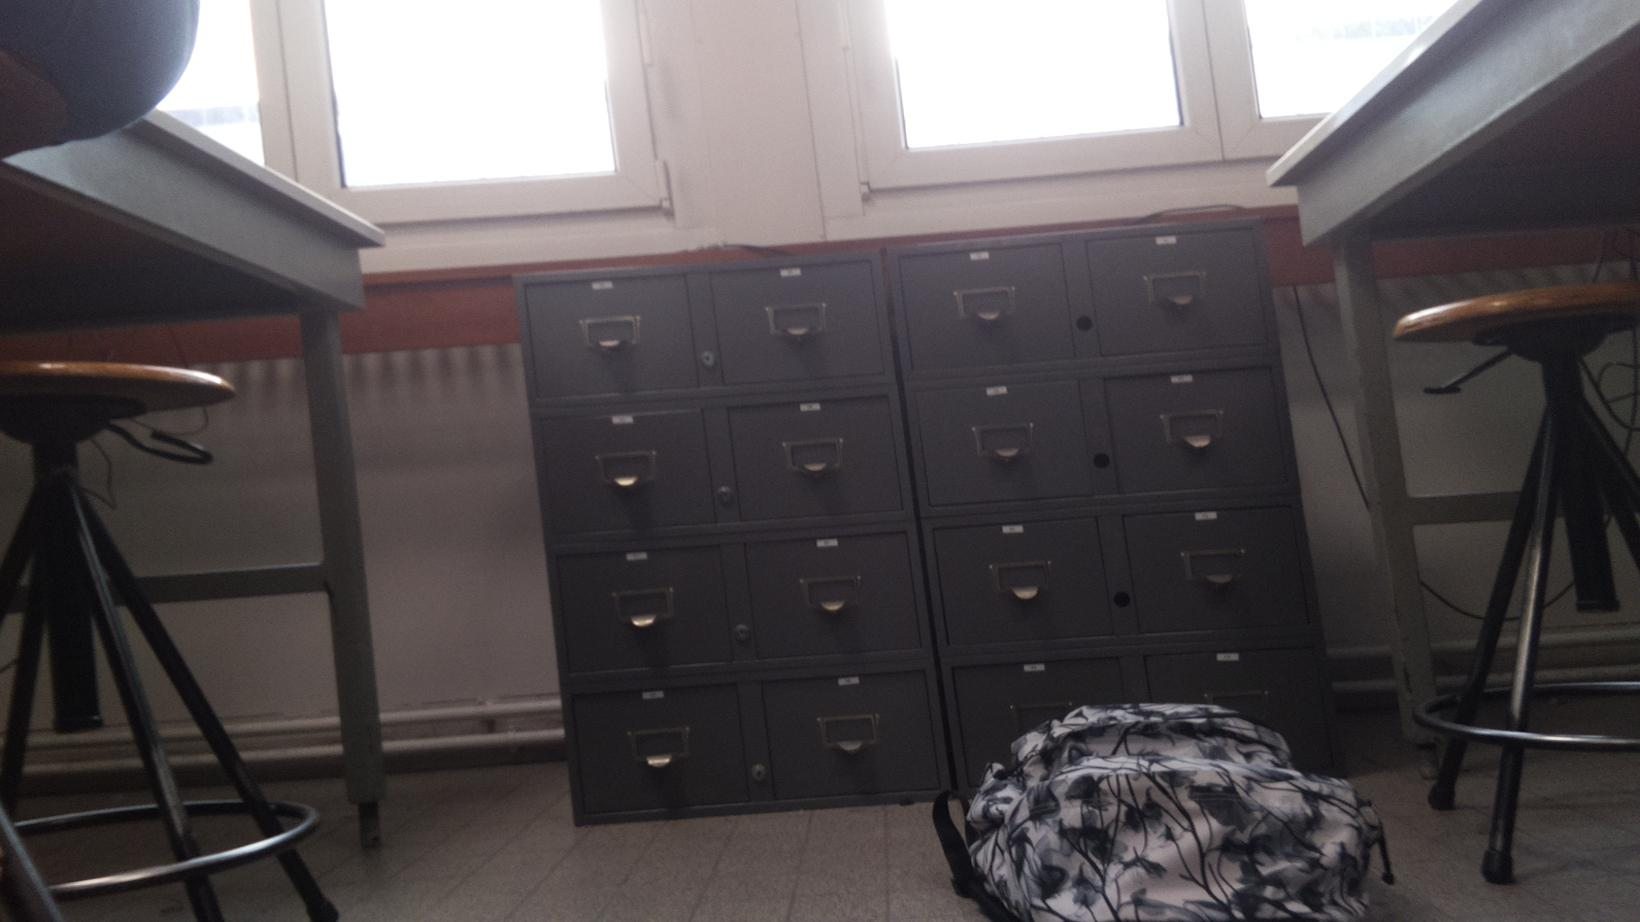big: (969, 689, 1394, 919)
